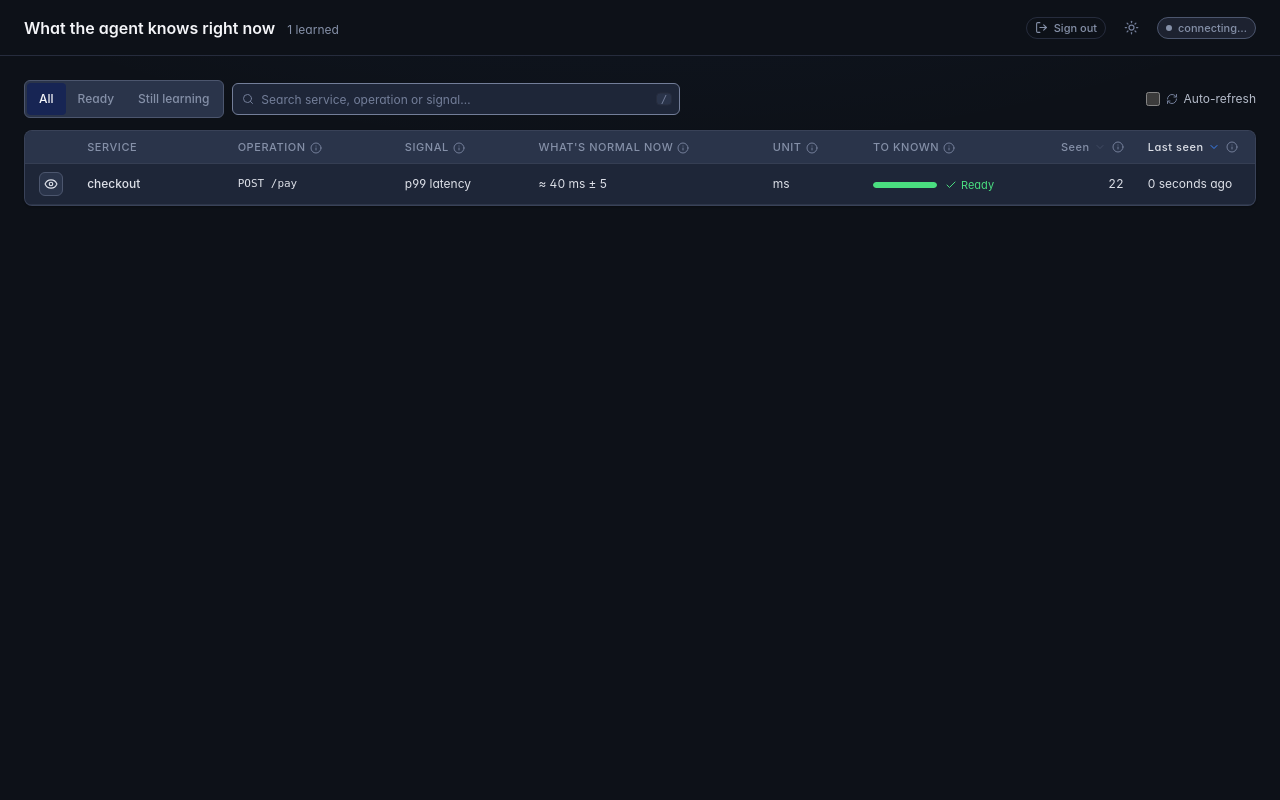
Scenario: LearnedSignalsView — Source label is driven off row.source, not the type › still renders 'Traces' as the Source for a trace row
Click the button titled "View details" at [51, 184], box left=39, top=172, right=63, bottom=196
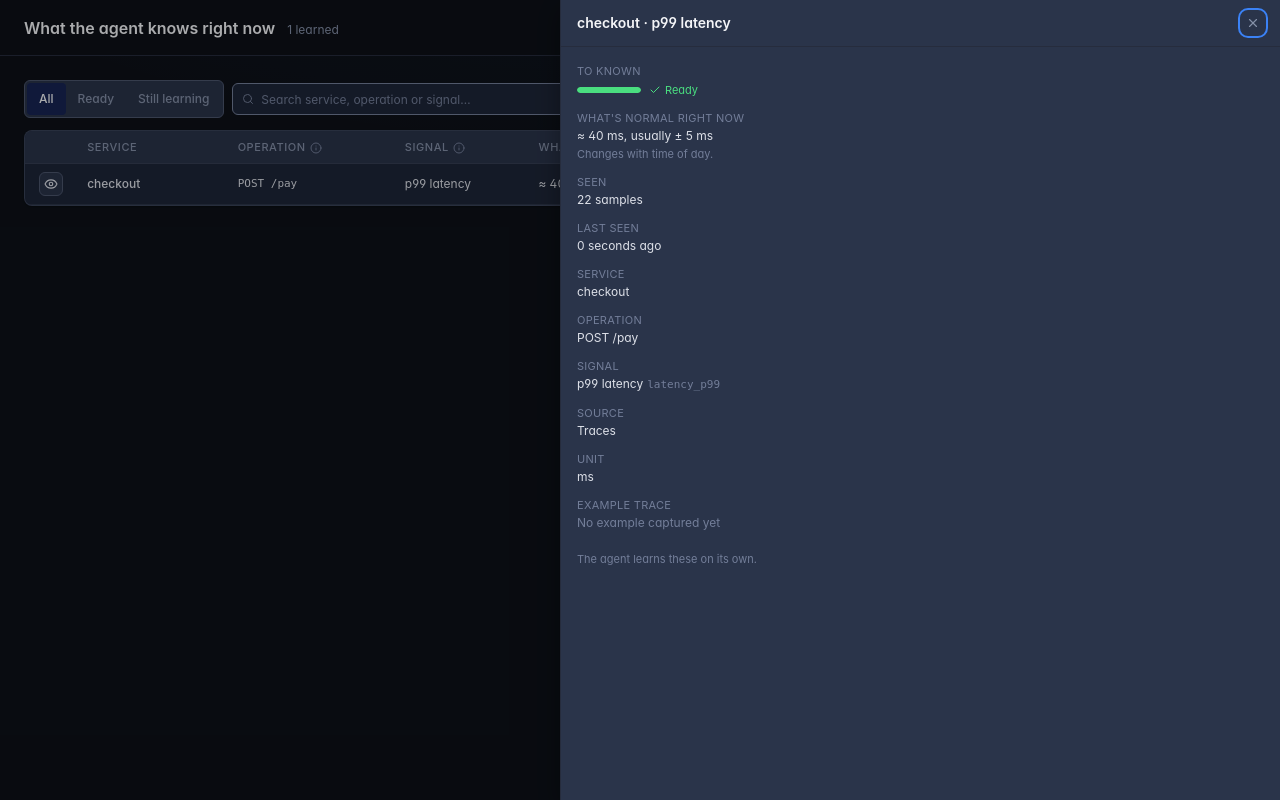
Expected: the text "Traces" is shown, left=577, top=423, right=616, bottom=438
